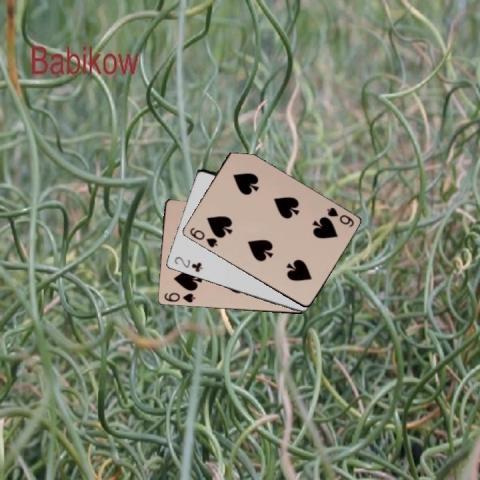2c: (171, 253, 204, 274)
6s: (324, 204, 355, 229), (186, 224, 218, 248), (161, 290, 196, 304)
